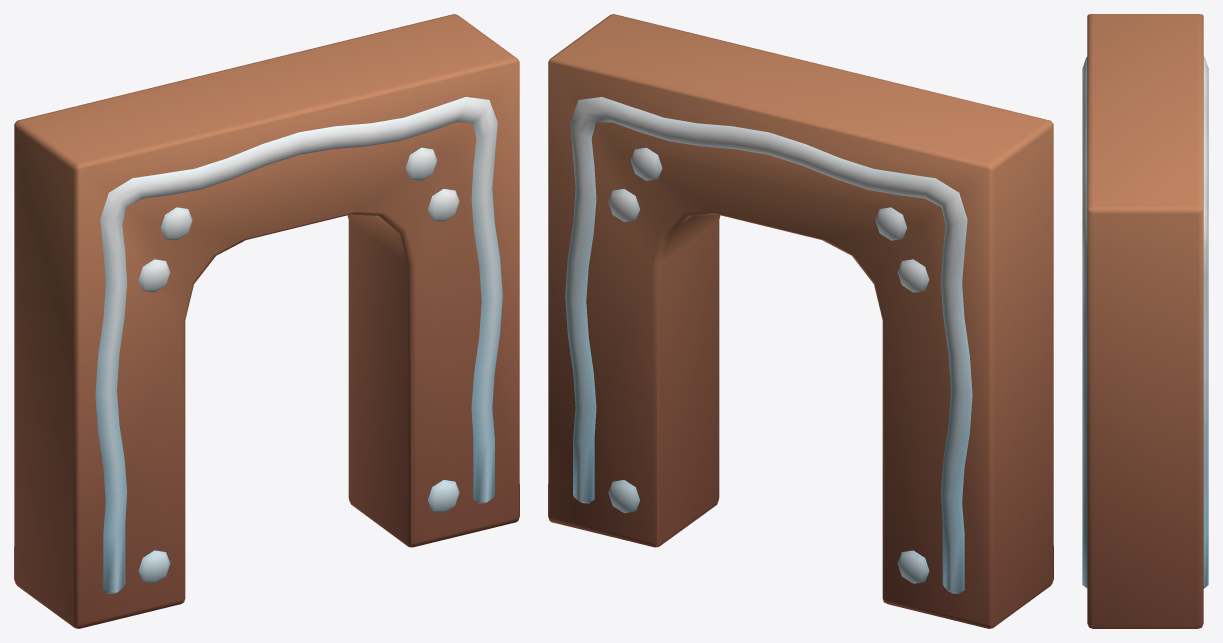
Rendered from wall_gingerbread_doorway_A.obj.
3 renders of one model, left to right at view 1: azimuth 30°, elevation 25°; view 2: azimuth 150°, elevation 25°; view 3: azimuth 270°, elevation 25°, orthographic. The views are drawn at different scales.
Parts seen in each view (by area): view 1: wall_gingerbread_doorway_A; view 2: wall_gingerbread_doorway_A; view 3: wall_gingerbread_doorway_A.
Boxes of the visible parts, left/top/right/bottom form: wall_gingerbread_doorway_A: left=14, top=14, right=519, bottom=628; wall_gingerbread_doorway_A: left=548, top=14, right=1053, bottom=628; wall_gingerbread_doorway_A: left=1082, top=14, right=1208, bottom=628.
Bounding box in the file's own units: 4 × 4 × 1.08.
1 material, 1 textured.
